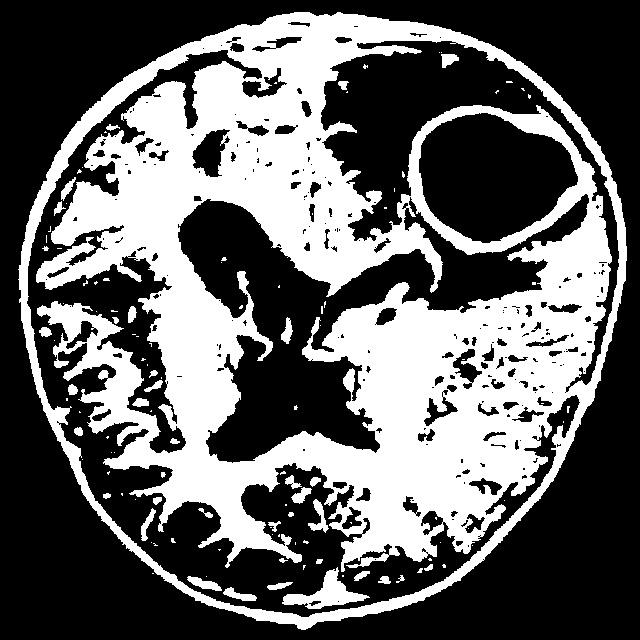Brain-Tumor: (396, 93, 609, 265)
